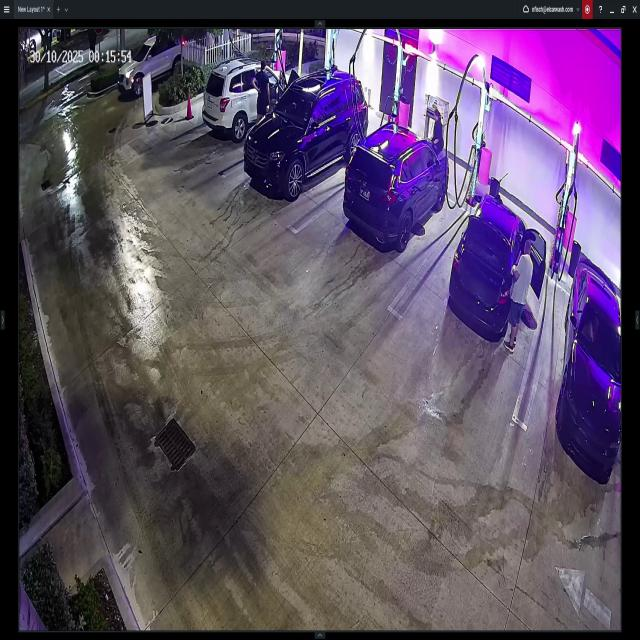Car: (242, 70, 368, 194), (449, 190, 547, 341), (558, 258, 618, 476), (344, 124, 446, 243), (204, 62, 301, 139), (117, 25, 184, 94)
